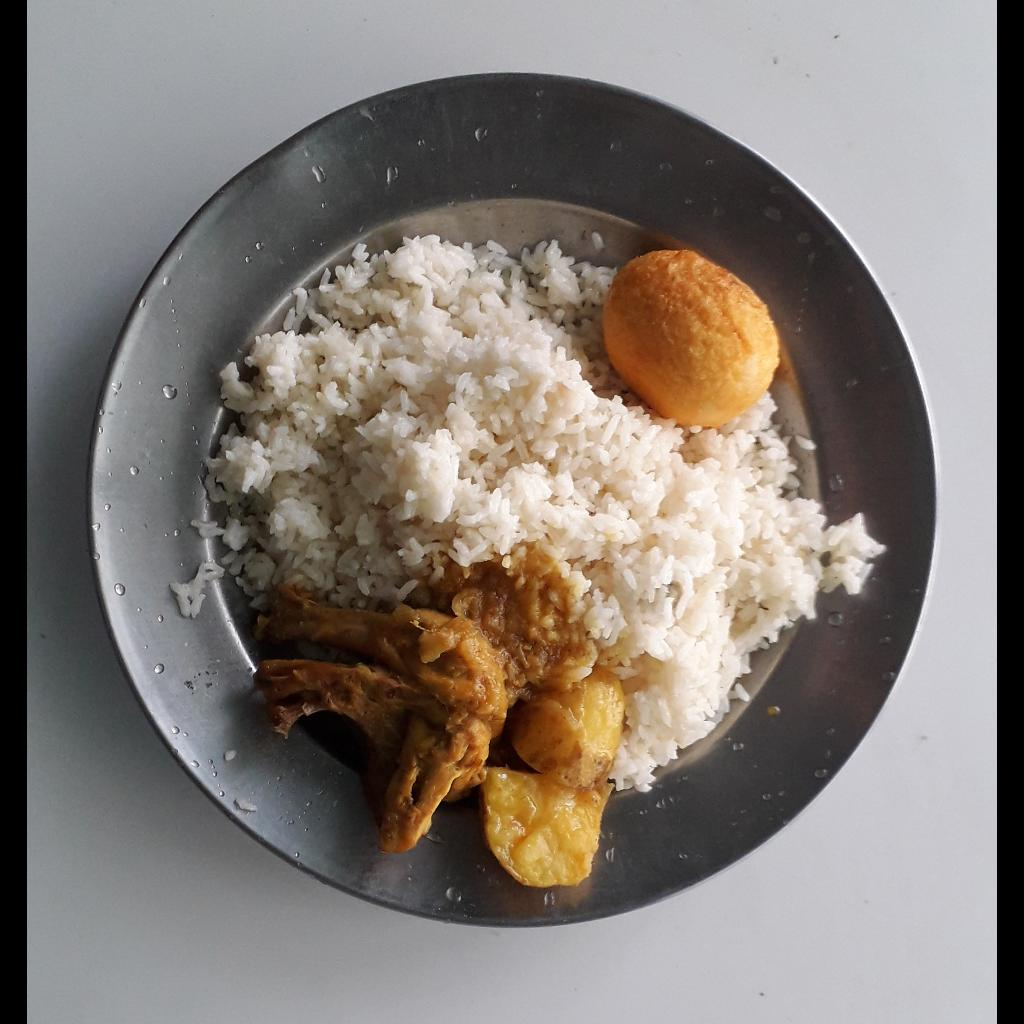chicken: (252, 569, 510, 853)
egg-boiled: (603, 244, 777, 432)
potato: (486, 629, 624, 892)
rice: (164, 232, 886, 795)
